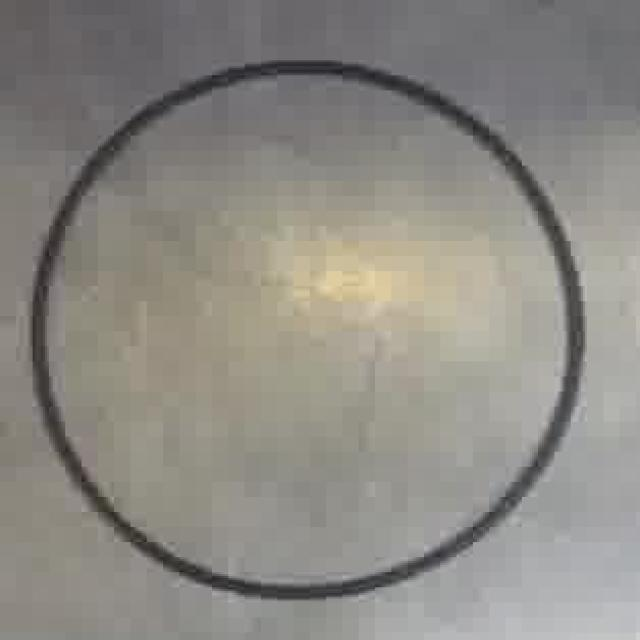Circle: (27, 56, 590, 598)
